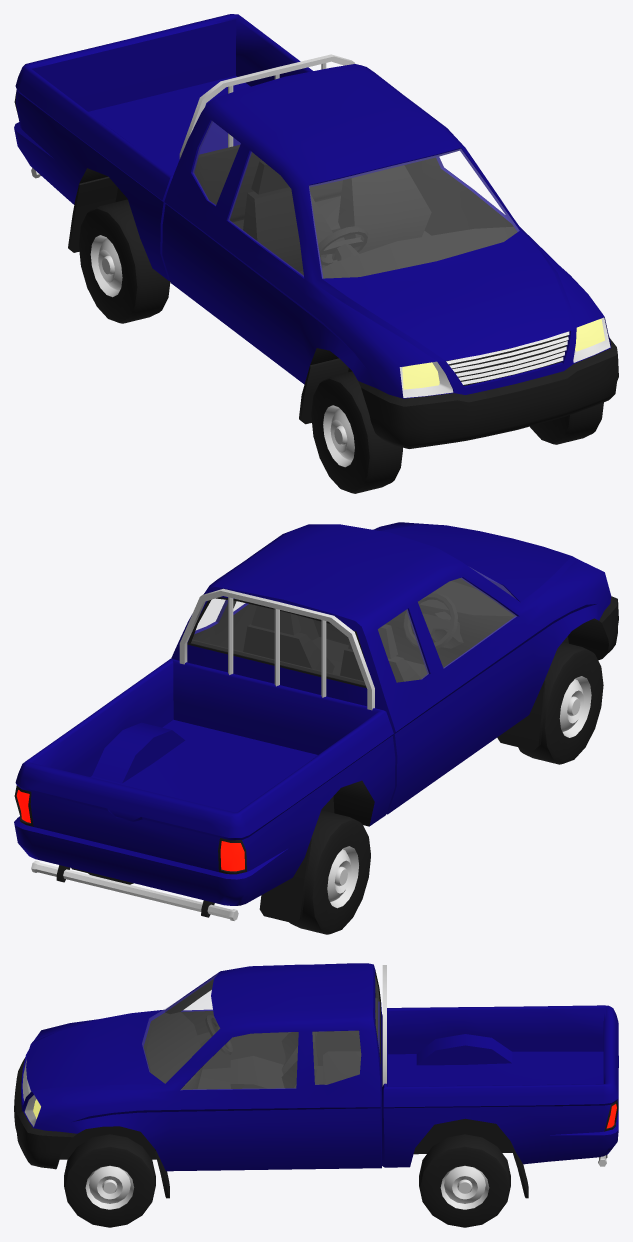
Rendered from saveiro.glb.
The picture shows the model from 3 angles, top to bottom: view 1: azimuth 30°, elevation 25°; view 2: azimuth 150°, elevation 25°; view 3: azimuth 270°, elevation 25°; orthographic projection. The views are drawn at different scales.
Visible parts, largest first — view 1: Chassis, Tire_RR, Tire_FR, Tire_FL; view 2: Chassis, Tire_RR, Tire_FR; view 3: Chassis, Tire_RL, Tire_FL.
Part boxes in pixels (x1,y1,x2,y2): Chassis: (14, 14, 618, 448); Tire_RR: (78, 199, 170, 323); Tire_FR: (311, 371, 402, 493); Tire_FL: (530, 402, 603, 444); Chassis: (14, 522, 618, 923); Tire_RR: (289, 810, 370, 934); Tire_FR: (518, 642, 603, 764); Chassis: (14, 963, 618, 1198); Tire_RL: (419, 1134, 510, 1227); Tire_FL: (64, 1134, 155, 1227).
Bounding box in the file's own units: 1.21 × 1.24 × 3.41.
